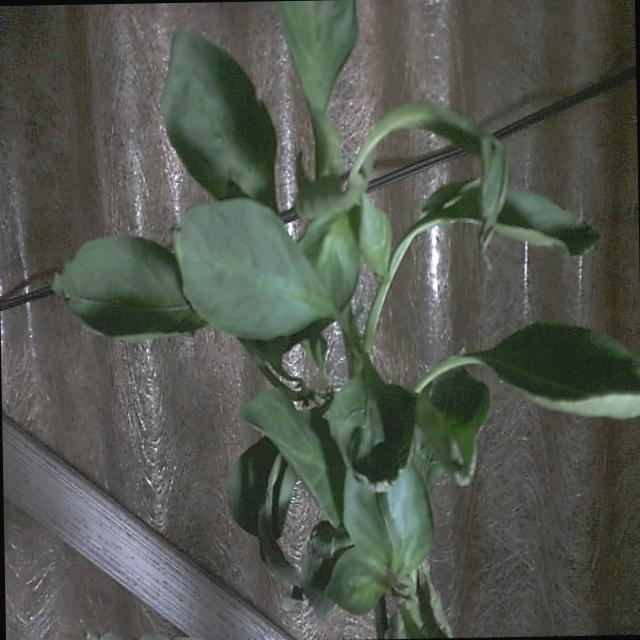Leaf: (174, 199, 336, 340), (161, 31, 276, 208), (54, 236, 206, 341), (240, 388, 344, 526)
